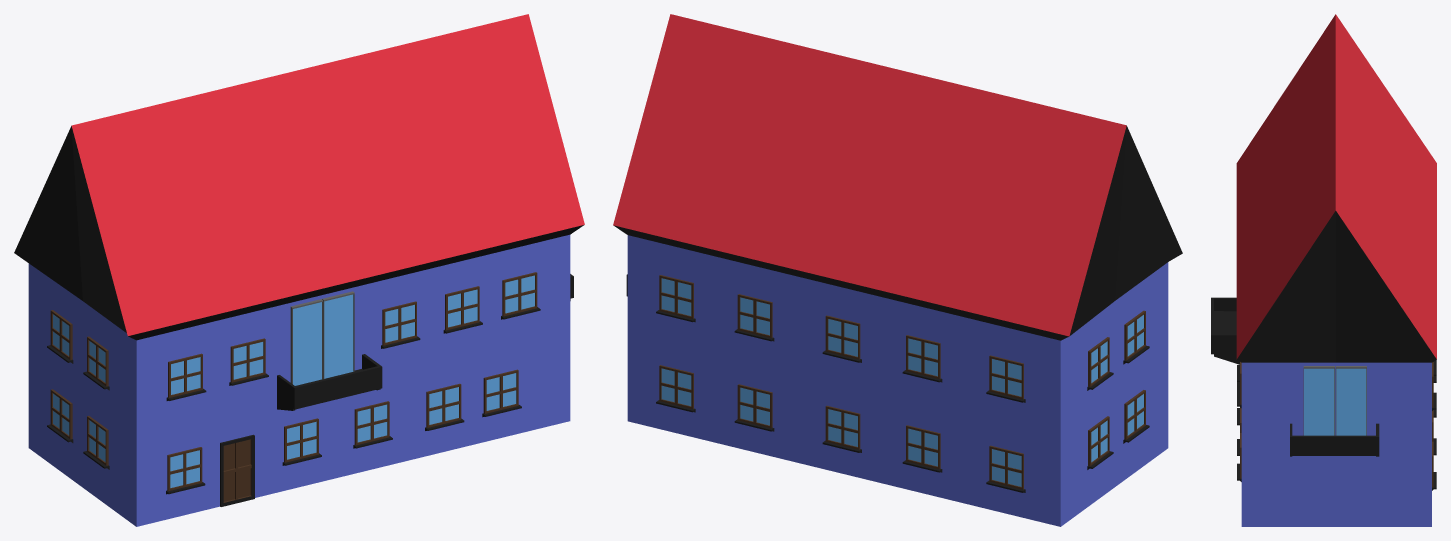
File: cityasset_house_10.fbx
3 views of the same model, side by side, from view 1: azimuth 30°, elevation 25°; view 2: azimuth 150°, elevation 25°; view 3: azimuth 270°, elevation 25° (orthographic). The views are drawn at different scales.
Visible parts, largest first — view 1: Cube.004, Cube.001, Cube.011, Cube.012, Cube.002, Cube.017, Cube.019, Cube.013, Cube.016, Cube.003, Cube.018, Cube.015 (+7 smaller); view 2: Cube.004, Cube.028, Cube.033, Cube.029, Cube.034, Cube.030, Cube.035, Cube.036, Cube.031, Cube.032, Cube.037, Cube.025 (+3 smaller); view 3: Cube.004, Cube.022, Cube.023, Cube.021, Cube.001.
Part boxes in pixels (x1,y1,x2,y2): Cube.004: [14, 14, 584, 526]; Cube.001: [277, 354, 382, 410]; Cube.011: [290, 299, 323, 385]; Cube.012: [322, 291, 354, 379]; Cube.002: [220, 434, 254, 506]; Cube.017: [353, 401, 392, 448]; Cube.019: [482, 369, 521, 417]; Cube.013: [229, 338, 268, 385]; Cube.016: [501, 272, 540, 319]; Cube.003: [166, 447, 205, 494]; Cube.018: [425, 383, 464, 430]; Cube.015: [443, 286, 482, 333]; Cube.004: [613, 14, 1182, 526]; Cube.028: [734, 384, 774, 431]; Cube.033: [734, 294, 774, 341]; Cube.029: [822, 405, 861, 452]; Cube.034: [822, 315, 861, 362]; Cube.030: [902, 425, 942, 472]; Cube.035: [902, 335, 942, 382]; Cube.036: [656, 275, 695, 322]; Cube.031: [656, 365, 695, 412]; Cube.032: [986, 445, 1025, 492]; Cube.037: [986, 355, 1025, 402]; Cube.025: [1123, 310, 1149, 364]; Cube.004: [1236, 14, 1436, 526]; Cube.022: [1303, 366, 1334, 435]; Cube.023: [1335, 366, 1366, 435]; Cube.021: [1290, 423, 1379, 456]; Cube.001: [1211, 297, 1239, 364].
Size of the model in its own units: 509 by 373 by 238.
